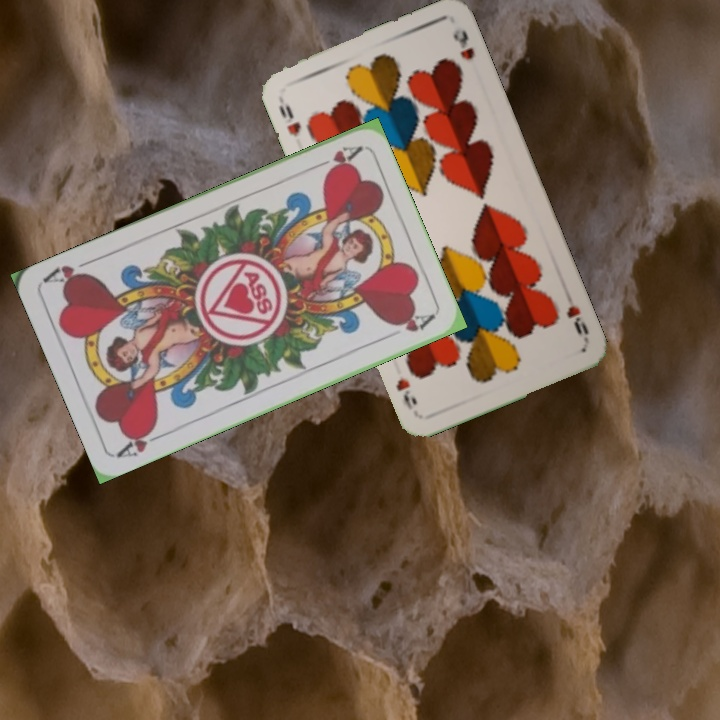H9: (562, 301, 592, 345), (274, 100, 304, 139)
HA: (113, 421, 170, 461), (306, 141, 364, 177)
